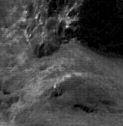Target: (60, 16, 78, 28)
